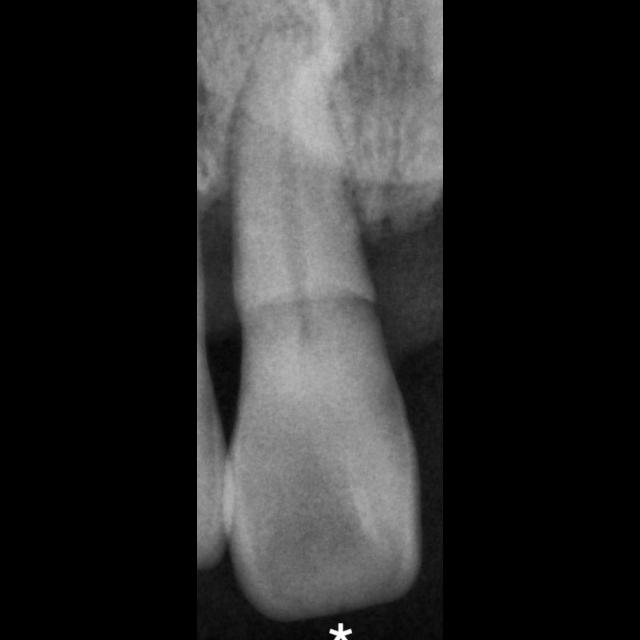tooth: (222, 12, 422, 622)
